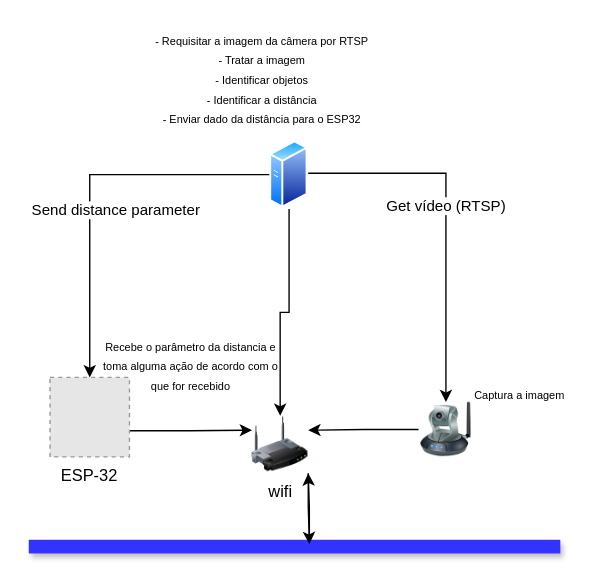
Image size: 597x586. Some labels were removed from this diagram. Grey dashed boxes stand in for pictures. The shapes that lost their labels are listed below. From the top down, each one's centre as x and y in pixels, then its label:
At point 288,174: "Server opencv c++".
At point 445,428: "Camera".
